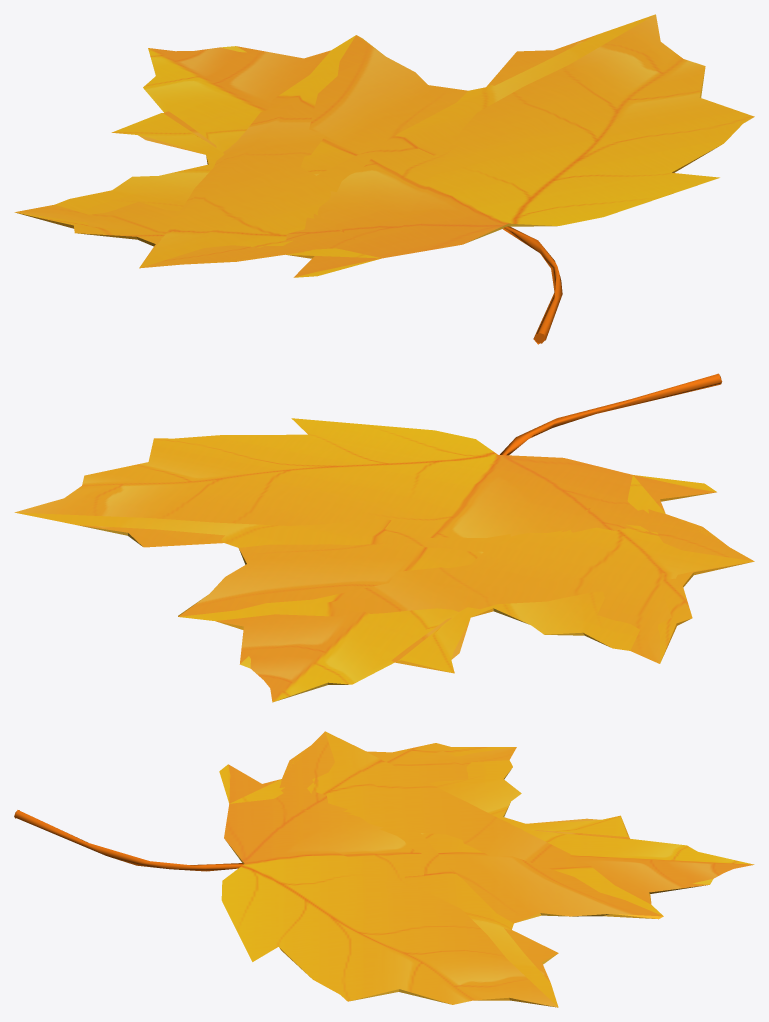
Rendered from list4.fbx.
3 views of the same model, one above another, from view 1: azimuth 30°, elevation 25°; view 2: azimuth 150°, elevation 25°; view 3: azimuth 270°, elevation 25° (orthographic). The views are drawn at different scales.
Visible parts, largest first — view 1: list3; view 2: list3; view 3: list3.
Part boxes in pixels (box(x1,y1,x2,y2)): list3: box(14, 14, 754, 344); list3: box(14, 373, 754, 702); list3: box(14, 731, 754, 1007).
Bounding box in the file's own units: 24.87 × 1.58 × 28.25.
Materials: 2 (1 with a texture image).
